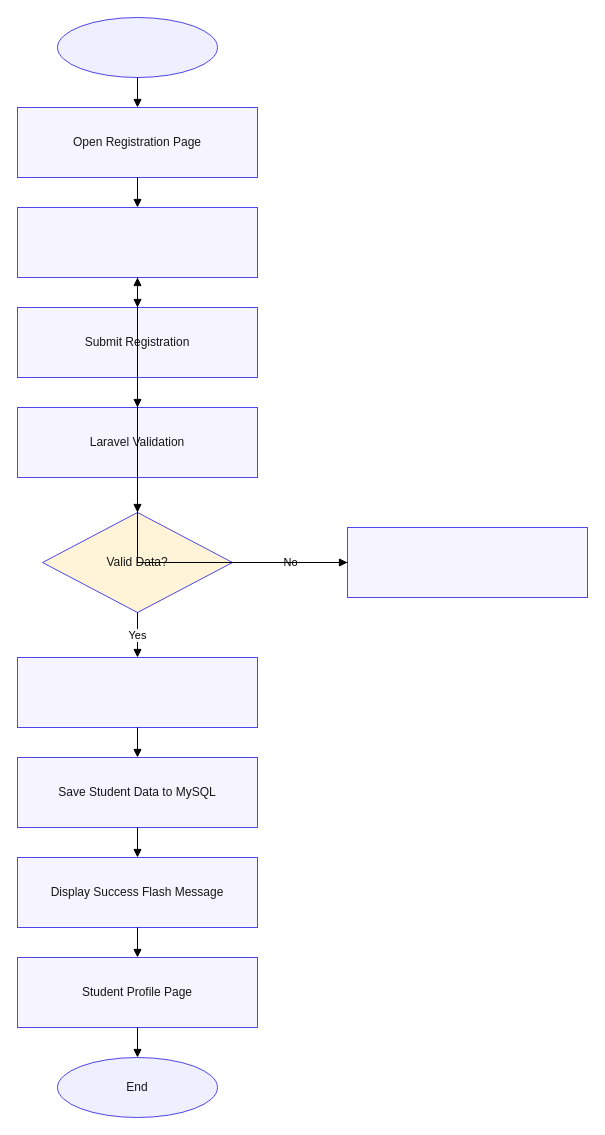
Image size: 605x1135. Some labels were removed from this diagram. Here are the shapes that lost their labels. From the top down, the box of each, then its label:
(56, 16, 218, 78): Start
(16, 206, 258, 278): Fill Out Registration Form
(346, 526, 588, 598): Display Validation Errors
(16, 656, 258, 728): Upload Profile Picture
